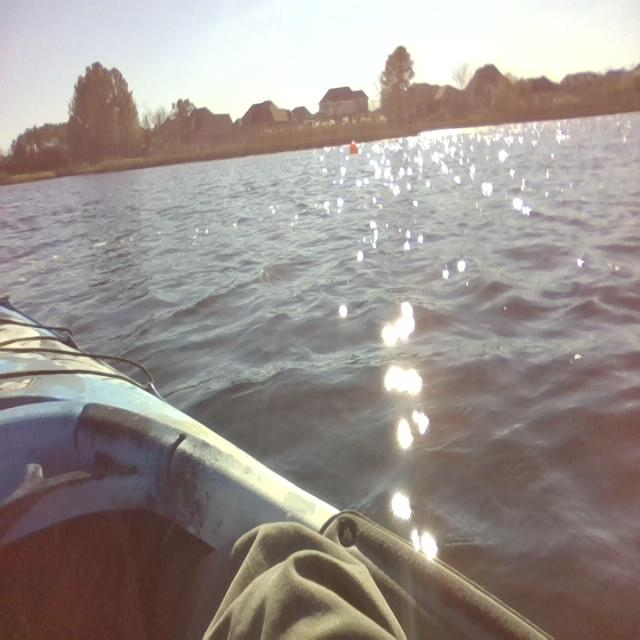Buoy: (346, 134, 364, 161)
